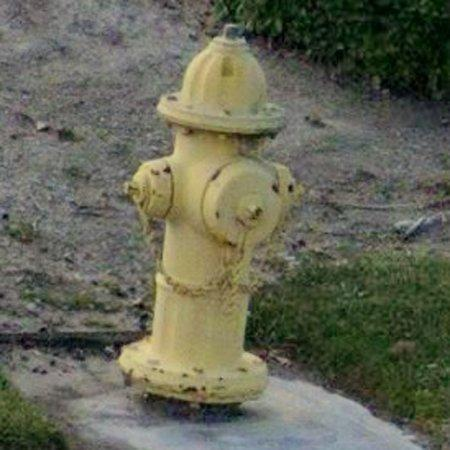a fire hydrant: (119, 25, 298, 405)
